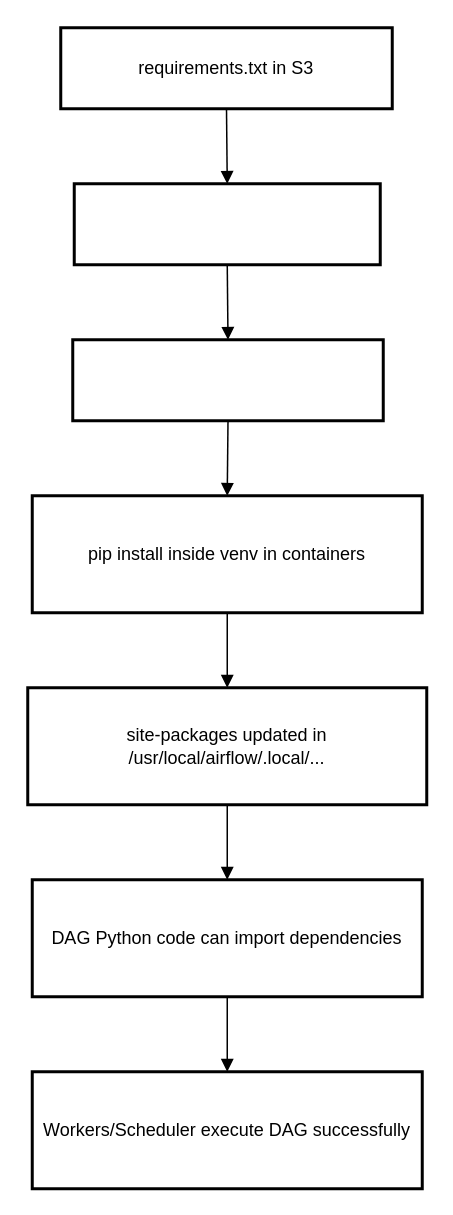
The diagram is 453 pixels wide and 1215 high, and some of its shapes have lost their labels. The centre of each missing label's shape, as x and y in pixels:
"Environment Update" goes at [227,380].
"MWAA Control Plane" goes at [226,224].
